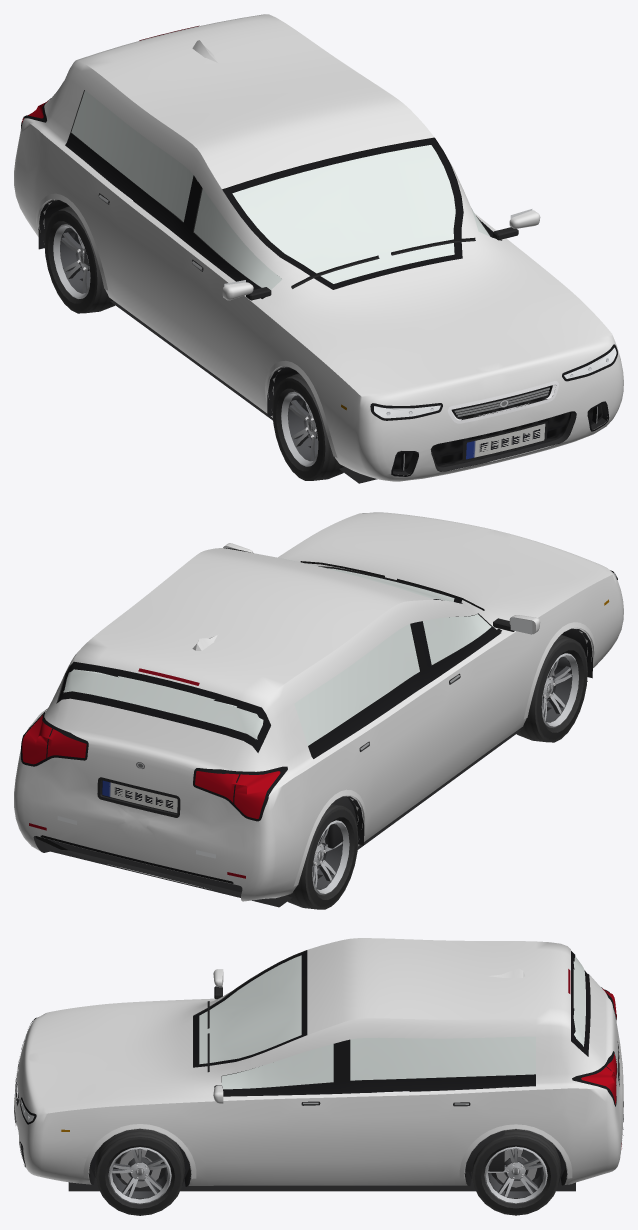
The model's file is TrafficHatchbackA_r2_complete_unity.fbx.
3 views of the same model, one above another, from view 1: azimuth 30°, elevation 25°; view 2: azimuth 150°, elevation 25°; view 3: azimuth 270°, elevation 25° (orthographic). The views are drawn at different scales.
Parts seen in each view (by area): view 1: Body_LOD0, Glass_LOD0, Trim_LOD0, Wheel_FR_LOD0, Wheel_RR_LOD0, Lights_LOD0; view 2: Body_LOD0, Trim_LOD0, Glass_LOD0, Wheel_FR_LOD0, Lights_LOD0, Wheel_RR_LOD0, Interior_LOD0; view 3: Body_LOD0, Glass_LOD0, Trim_LOD0, Wheel_FL_LOD0, Wheel_RL_LOD0, Lights_LOD0, Interior_LOD0.
Boxes of the visible parts, bbox=[...] form: Body_LOD0: bbox=[14, 14, 623, 481]; Glass_LOD0: bbox=[71, 90, 490, 289]; Trim_LOD0: bbox=[21, 90, 617, 483]; Wheel_FR_LOD0: bbox=[272, 373, 344, 480]; Wheel_RR_LOD0: bbox=[44, 206, 115, 313]; Lights_LOD0: bbox=[22, 25, 616, 418]; Body_LOD0: bbox=[14, 512, 623, 901]; Trim_LOD0: bbox=[21, 546, 617, 907]; Glass_LOD0: bbox=[63, 558, 491, 745]; Wheel_FR_LOD0: bbox=[516, 634, 587, 742]; Lights_LOD0: bbox=[22, 572, 616, 858]; Wheel_RR_LOD0: bbox=[286, 804, 358, 909]; Interior_LOD0: bbox=[325, 622, 455, 848]; Body_LOD0: bbox=[14, 938, 623, 1185]; Glass_LOD0: bbox=[199, 955, 585, 1089]; Trim_LOD0: bbox=[14, 950, 623, 1191]; Wheel_FL_LOD0: bbox=[94, 1128, 185, 1215]; Wheel_RL_LOD0: bbox=[471, 1129, 561, 1215]; Lights_LOD0: bbox=[20, 969, 622, 1131]; Interior_LOD0: bbox=[291, 1041, 504, 1171].
Size of what is drawn, in the model's own units: 2.08 by 1.52 by 4.27.
